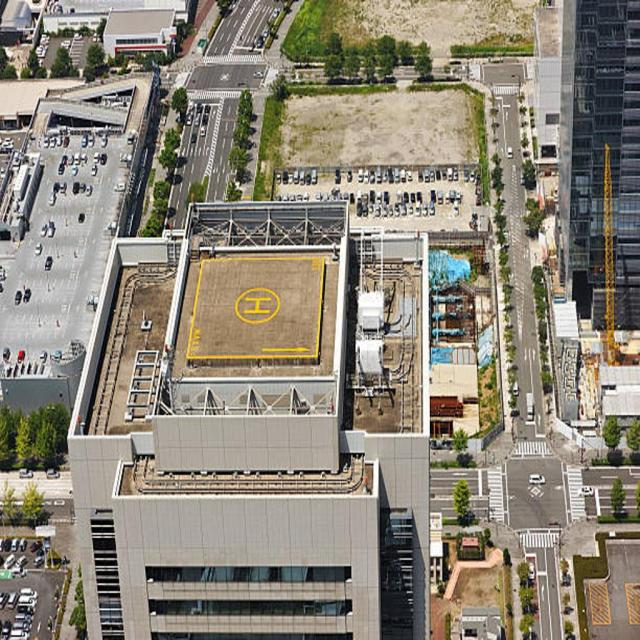helipad: (233, 286, 280, 323)
